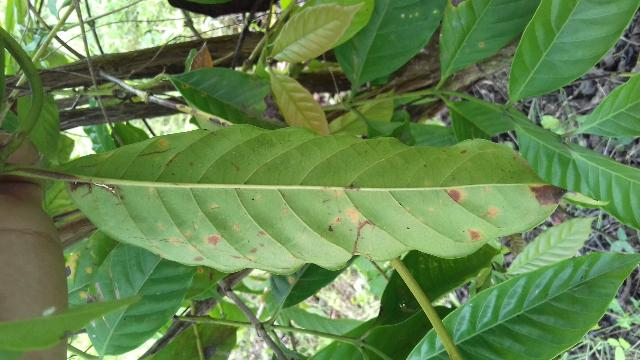rust_level_1: (57, 123, 612, 275)
